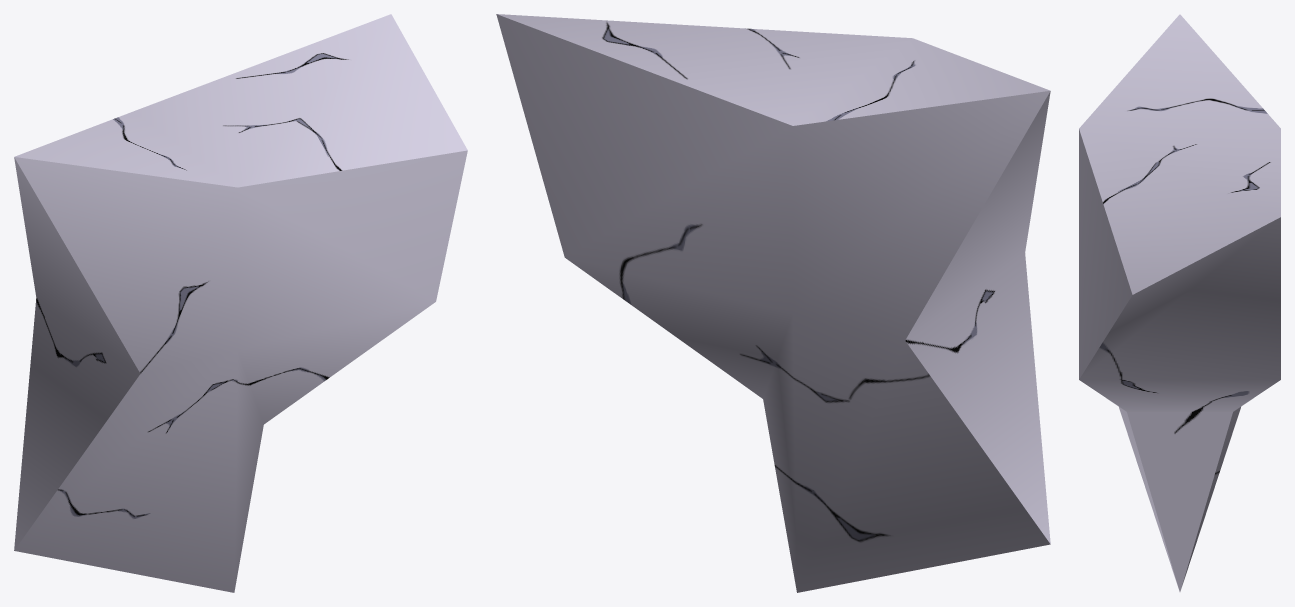
The model's file is piece.fbx.
The picture shows the model from 3 angles, left to right: view 1: azimuth 30°, elevation 25°; view 2: azimuth 150°, elevation 25°; view 3: azimuth 270°, elevation 25°; orthographic projection. The views are drawn at different scales.
Parts seen in each view (by area): view 1: pCube1; view 2: pCube1; view 3: pCube1.
Part boxes in pixels (box(x1,y1,x2,y2)): pCube1: box(14, 14, 467, 592); pCube1: box(496, 14, 1050, 592); pCube1: box(1079, 14, 1280, 591).
Bounding box in the file's own units: 4.55 × 4.96 × 1.91.
1 material, 1 textured.
